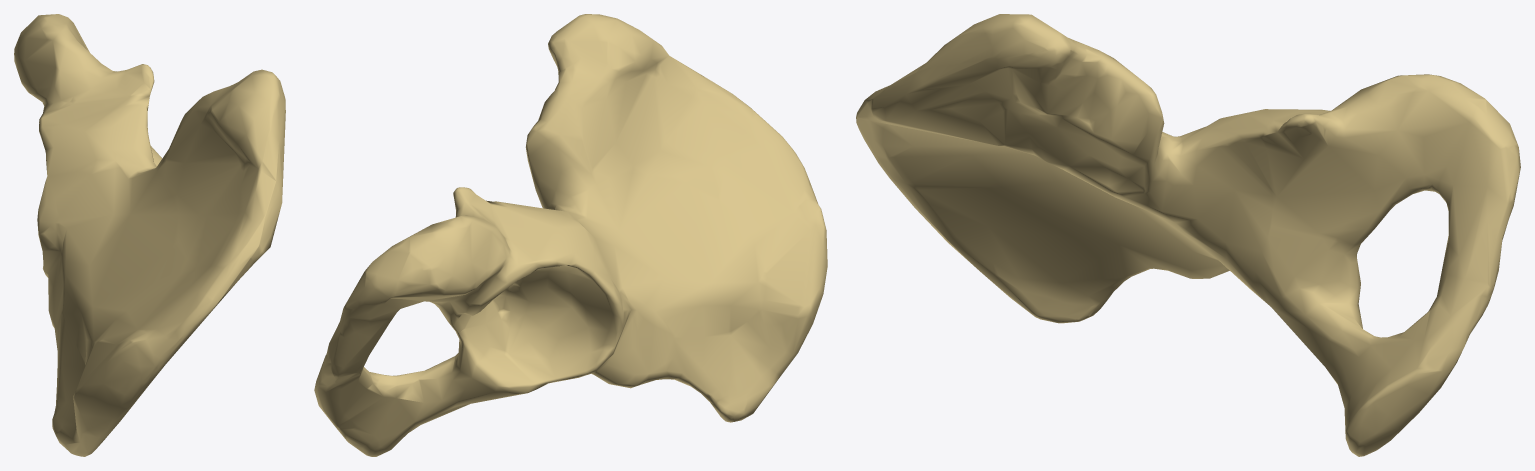
3 renders of one model, left to right at view 1: azimuth 30°, elevation 25°; view 2: azimuth 150°, elevation 25°; view 3: azimuth 270°, elevation 25°, orthographic. The views are drawn at different scales.
Visible parts, largest first — view 1: 右侧髋骨; view 2: 右侧髋骨; view 3: 右侧髋骨.
Boxes of the visible parts, box(x1,y1,x2,y2) form: 右侧髋骨: box(14, 14, 285, 456); 右侧髋骨: box(314, 14, 827, 456); 右侧髋骨: box(856, 14, 1520, 456).
Bounding box in the file's own units: 0.1944 × 0.2105 × 0.3162.
